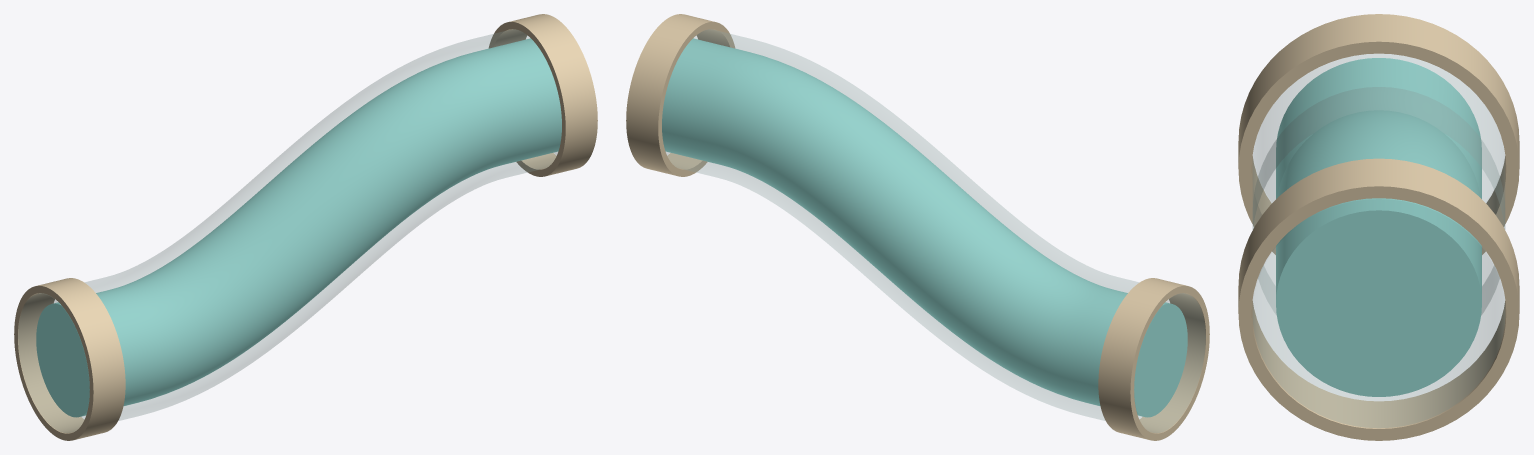
Rendered from Pit_Tube_Step.glb.
3 views of the same model, side by side, from view 1: azimuth 30°, elevation 25°; view 2: azimuth 150°, elevation 25°; view 3: azimuth 270°, elevation 25° (orthographic). The views are drawn at different scales.
Visible parts, largest first — view 1: Pit_Tube_Step, Pit_Tube_Step_Goo, Pit_Tube_Step_Sleeves; view 2: Pit_Tube_Step, Pit_Tube_Step_Goo, Pit_Tube_Step_Sleeves; view 3: Pit_Tube_Step, Pit_Tube_Step_Goo, Pit_Tube_Step_Sleeves.
Boxes of the visible parts, bbox=[...] form: Pit_Tube_Step: bbox=[18, 29, 561, 432]; Pit_Tube_Step_Goo: bbox=[36, 38, 561, 417]; Pit_Tube_Step_Sleeves: bbox=[14, 14, 597, 440]; Pit_Tube_Step: bbox=[662, 29, 1205, 432]; Pit_Tube_Step_Goo: bbox=[662, 38, 1187, 417]; Pit_Tube_Step_Sleeves: bbox=[626, 14, 1209, 440]; Pit_Tube_Step: bbox=[1252, 54, 1505, 427]; Pit_Tube_Step_Goo: bbox=[1276, 58, 1481, 396]; Pit_Tube_Step_Sleeves: bbox=[1238, 14, 1519, 440].
Bounding box in the file's own units: 2.2 × 1.22 × 0.6.
